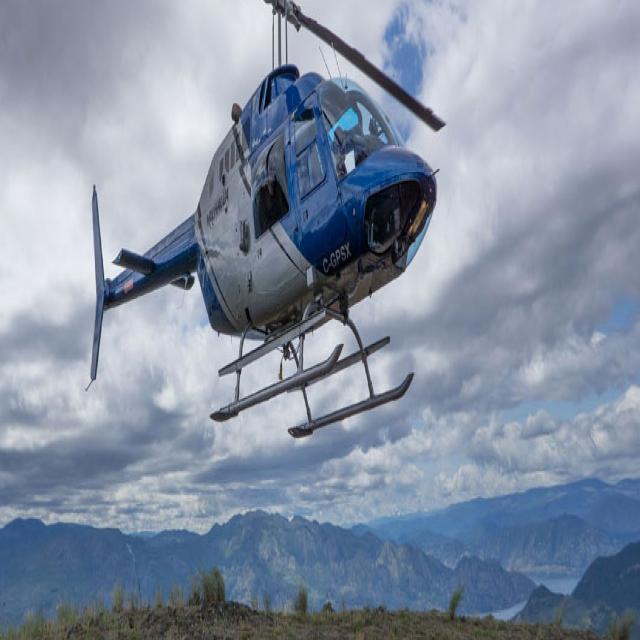helicopter: (73, 1, 450, 445)
